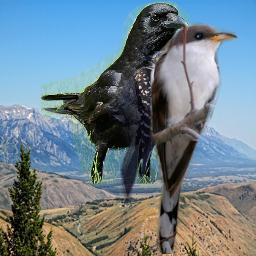Crow: (41, 1, 191, 184)
Cuckoo: (148, 22, 238, 254)
Woodpecker: (107, 44, 182, 208)
